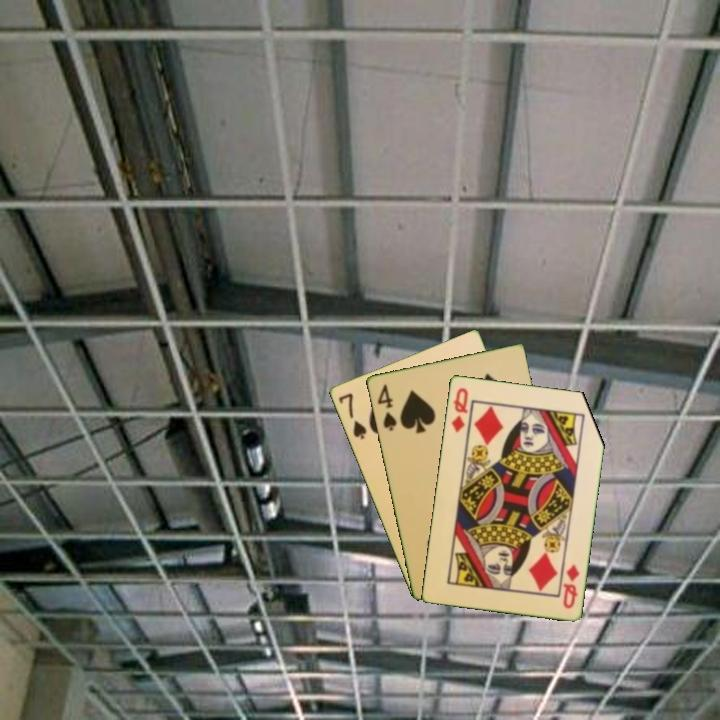4s: (373, 381, 399, 434)
7s: (334, 389, 369, 442)
Qd: (559, 560, 582, 611), (448, 384, 470, 435)
